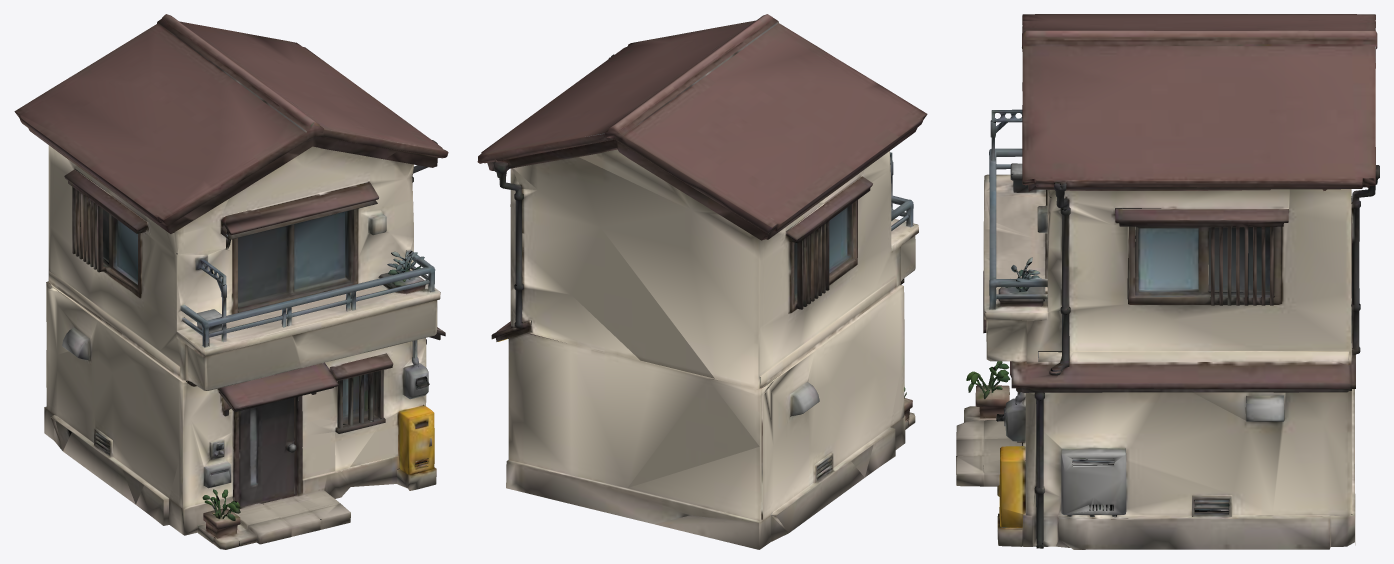
File: building24.glb
The picture shows the model from 3 angles, left to right: view 1: azimuth 30°, elevation 25°; view 2: azimuth 150°, elevation 25°; view 3: azimuth 270°, elevation 25°; orthographic projection. The views are drawn at different scales.
Visible parts, largest first — view 1: lo; view 2: lo; view 3: lo.
Boxes of the visible parts, x1,y1,x2,y2 form: lo: [14, 14, 448, 549]; lo: [477, 14, 927, 549]; lo: [956, 14, 1379, 549].
Size of the model in its own units: 0.7805 by 0.9807 by 0.8335.
1 material, 1 textured.
